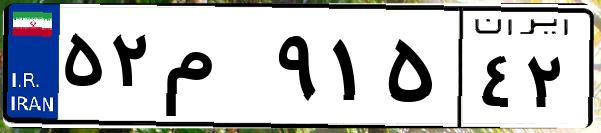1: (330, 28, 385, 110)
2: (525, 38, 570, 115), (110, 28, 158, 98)
4: (475, 38, 525, 113)
5: (385, 28, 445, 110), (57, 26, 110, 100)
9: (270, 28, 330, 110)
م: (158, 20, 270, 120)
